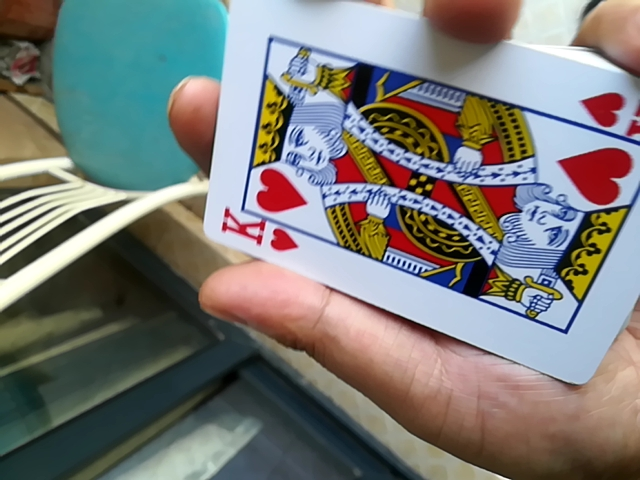hx k: (189, 7, 638, 367)
